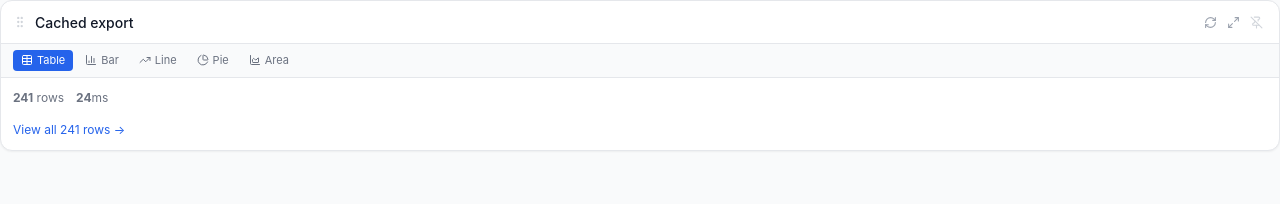
it: Dashboard cached file exports › shows a retired refresh error while keeping the cached result available
expect the button titled "Expand results" is shown: met, box [1223,12,1244,32]
Click the button titled "Re-run query": [1210, 22] box [1200,12,1221,32]
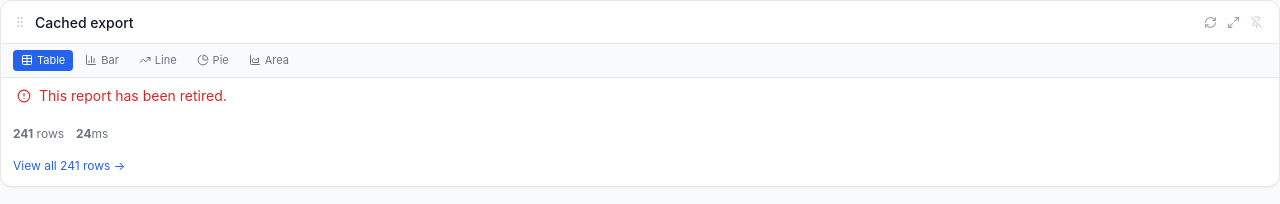
expect the button titled "Expand results" is shown: met, box [1223,12,1244,32]
expect the text "This report has been retired." is shown: met, box [17,86,227,104]
